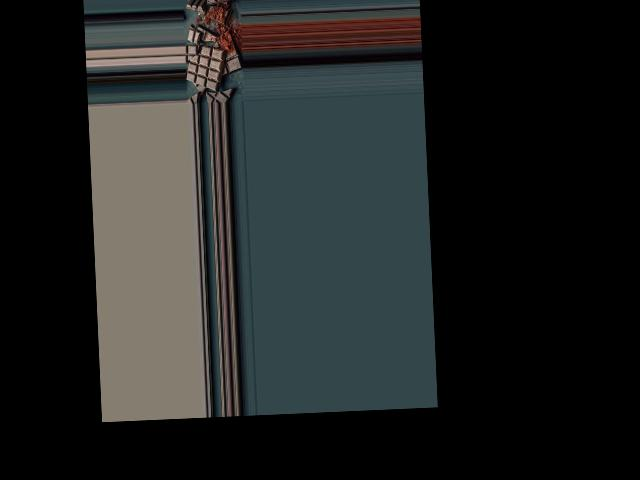chocolate: (185, 45, 226, 93)
